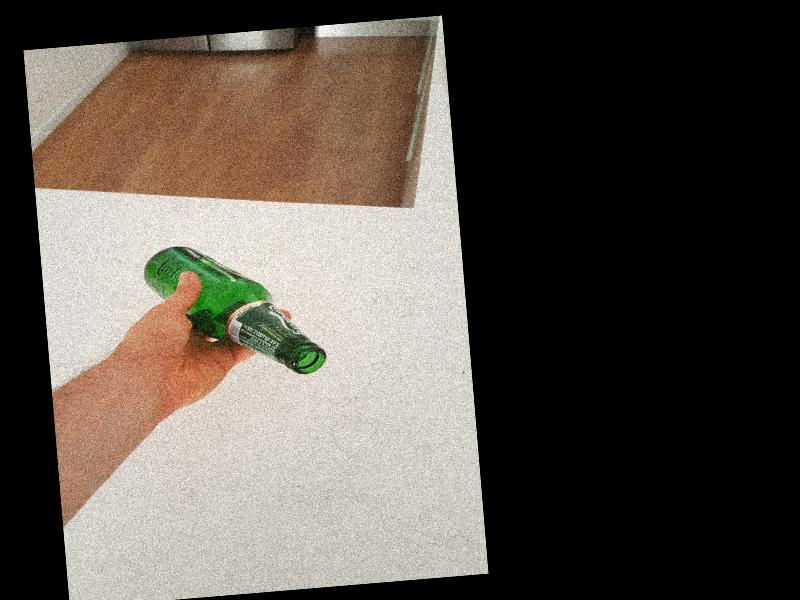Beer: (143, 235, 329, 388)
